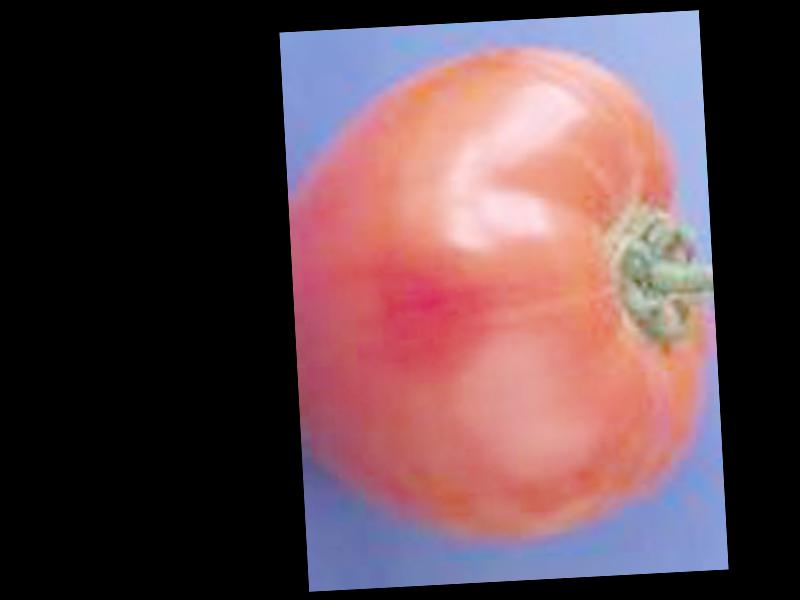Tomato: (283, 38, 722, 552)
